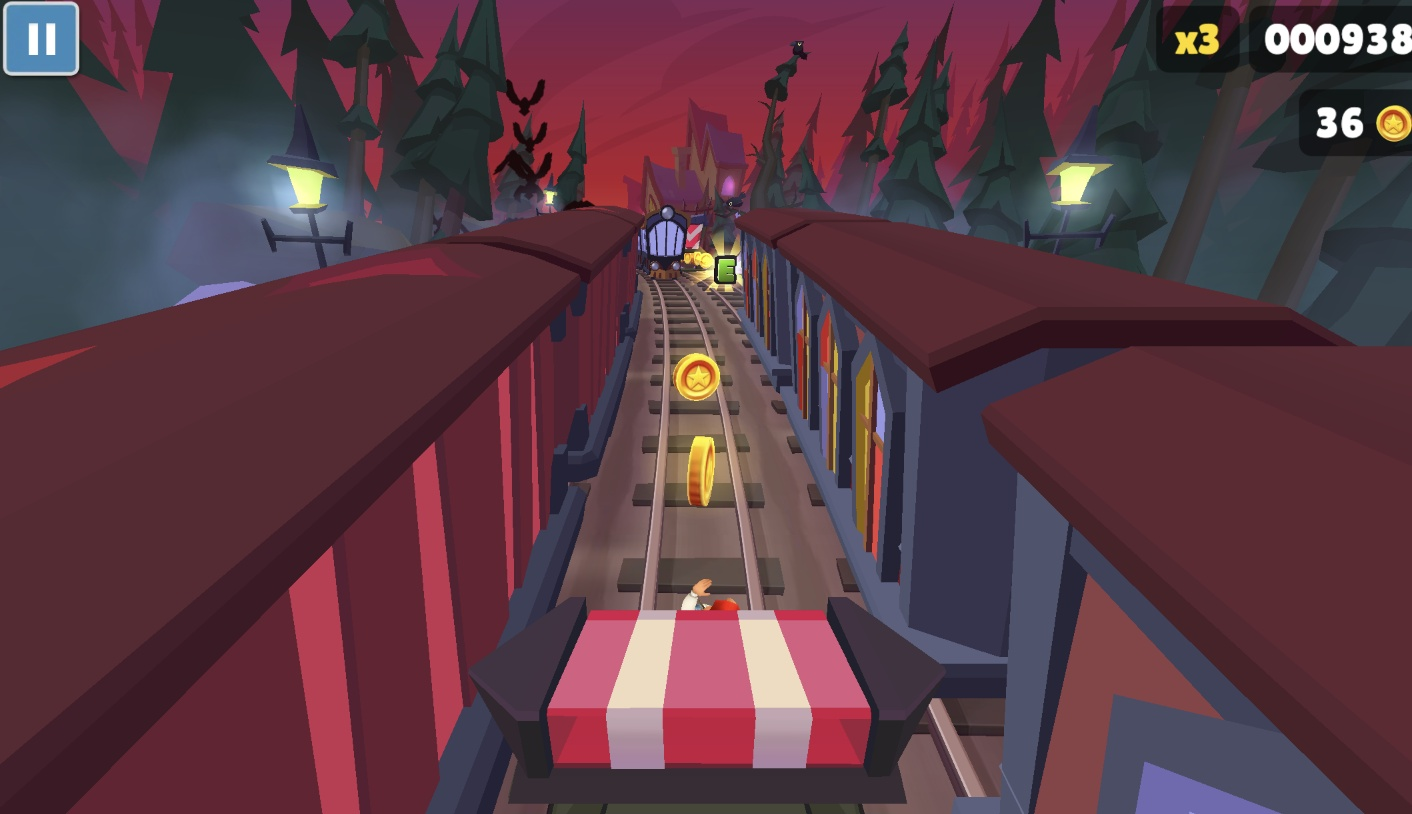ground_barrier: (466, 596, 946, 814)
overhead_barrier: (683, 213, 707, 259)
train: (736, 210, 1412, 814), (0, 205, 644, 814), (637, 205, 691, 278)
